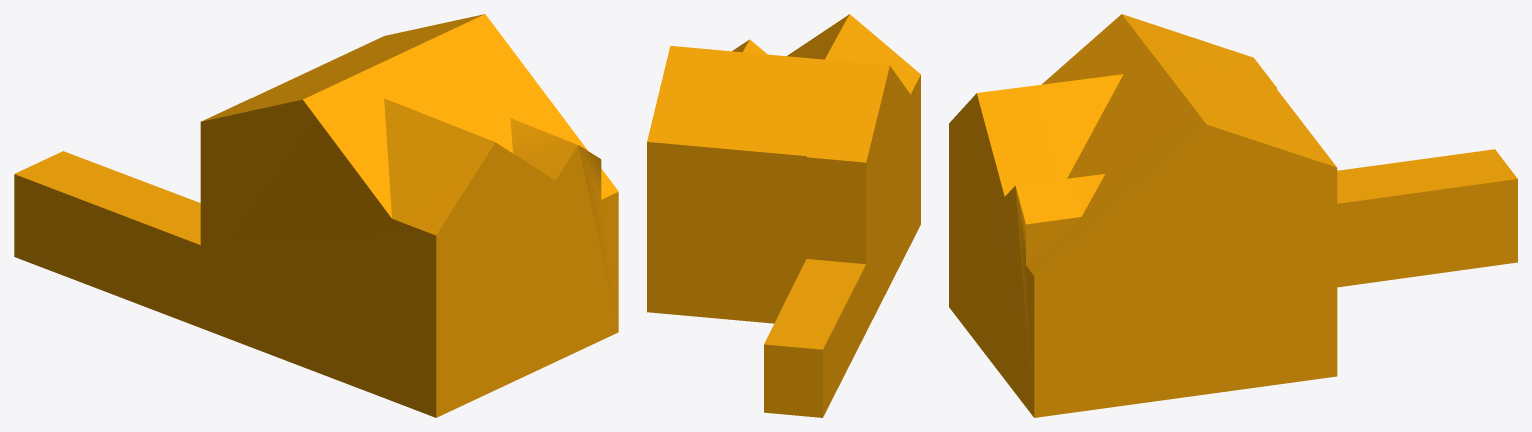
File: DEHB01ALk00016Z6.gltf
3 views of the same model, side by side, from view 1: azimuth 30°, elevation 25°; view 2: azimuth 150°, elevation 25°; view 3: azimuth 270°, elevation 25° (orthographic). The views are drawn at different scales.
Parts seen in each view (by area): view 1: Z_UP; view 2: Z_UP; view 3: Z_UP.
Part boxes in pixels (x1,y1,x2,y2): Z_UP: (14,14,618,417); Z_UP: (647,14,920,417); Z_UP: (949,14,1517,417).
Size of the model in its own units: 14.16 by 9.62 by 18.38.
